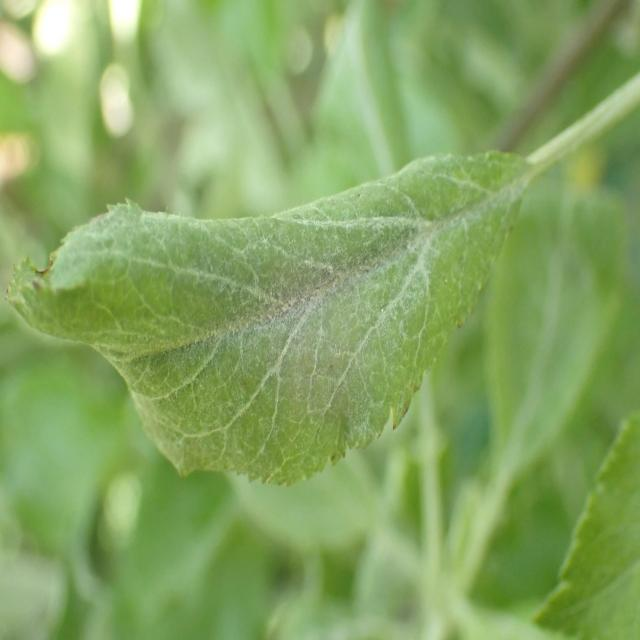Powdery_mildew: (57, 132, 543, 481)
